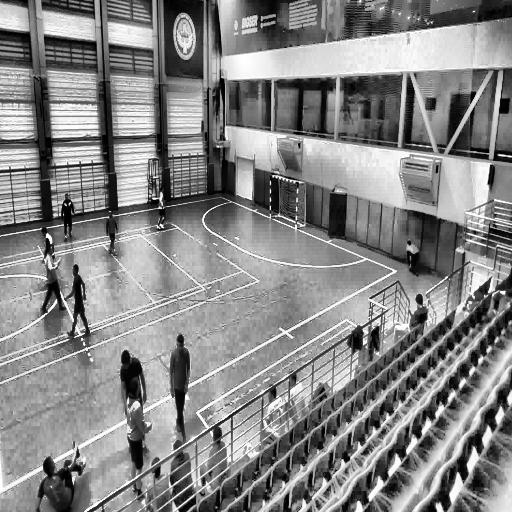player: (126, 377, 150, 493), (169, 333, 190, 443), (40, 243, 68, 316), (67, 264, 90, 339), (38, 224, 56, 265), (61, 196, 74, 241), (106, 207, 118, 255), (406, 240, 420, 277), (156, 185, 167, 231)
